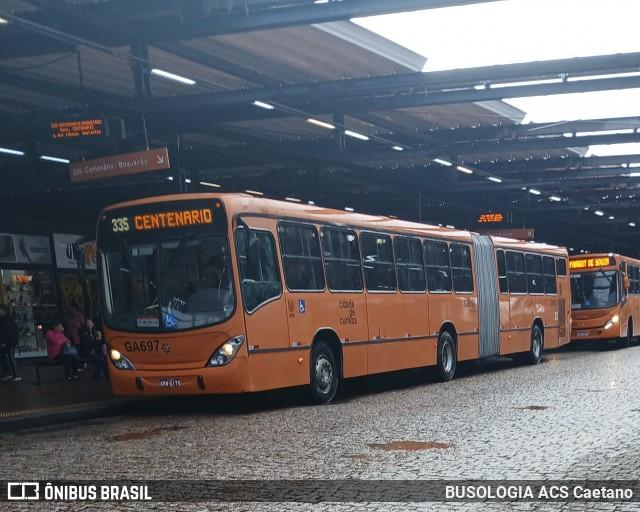CENTENARIO: (129, 204, 215, 234)
